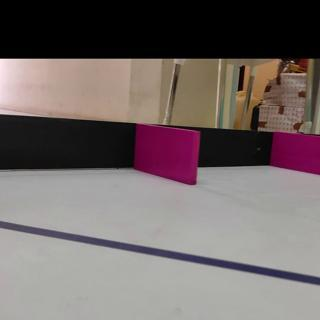xparking: (137, 130, 194, 180), (276, 135, 320, 169)
